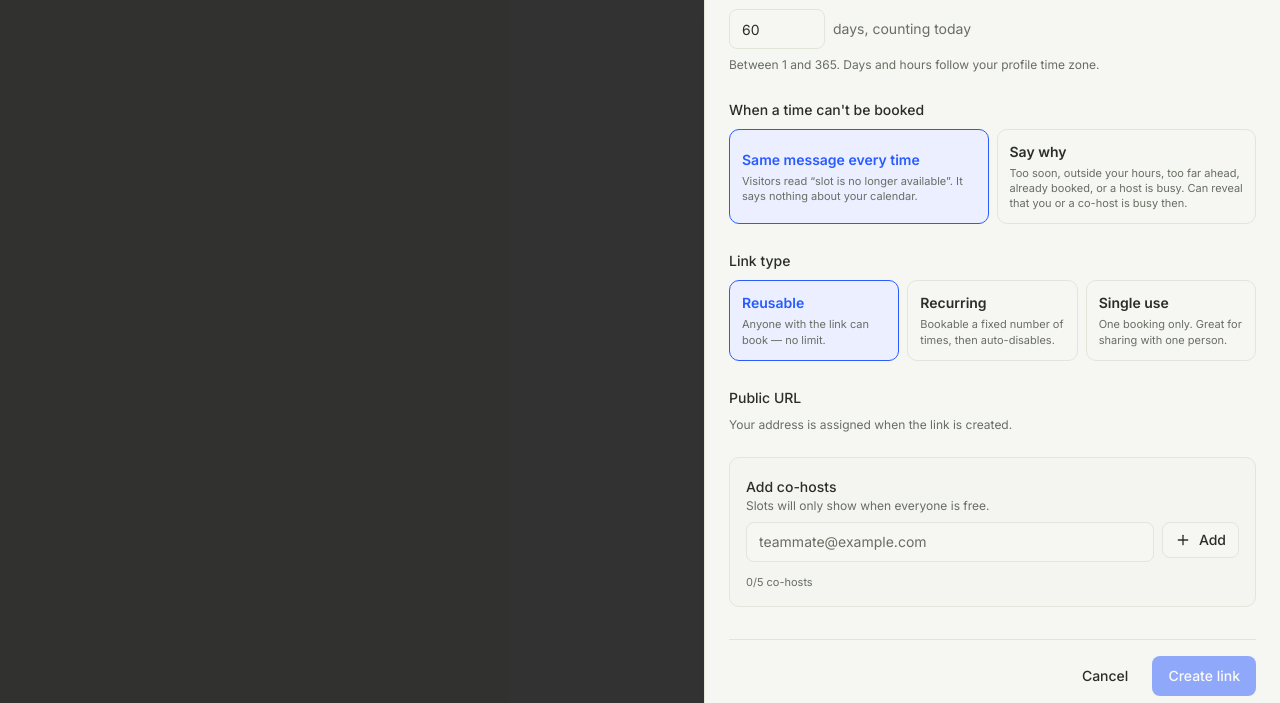
Scenario: PAC-122 SF-086: co-host availability chips on a failed free/busy read › a chip the answer does not mention is not left 'Checking…'
(page scrolled)
In the field named "Co-host email": (950, 542) [746,522,1154,562], type "mate@co.com"
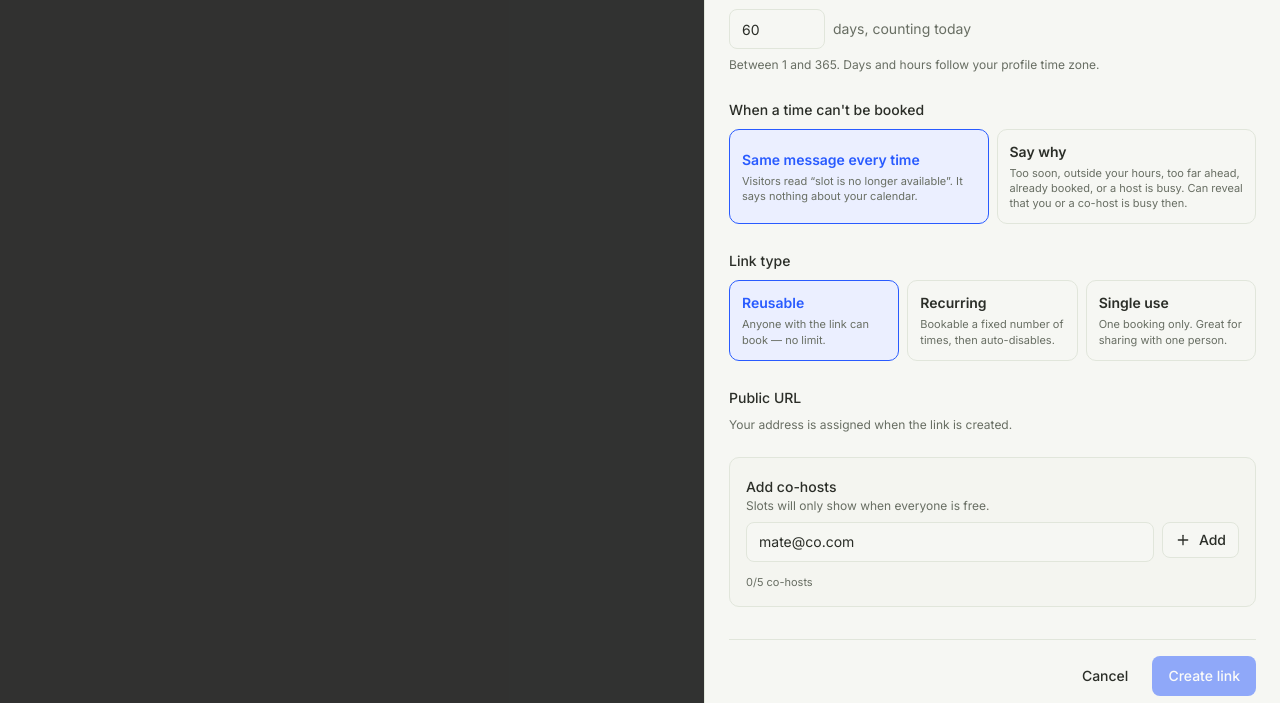
Click the button "Add": (1200, 540) [1162,522,1239,558]
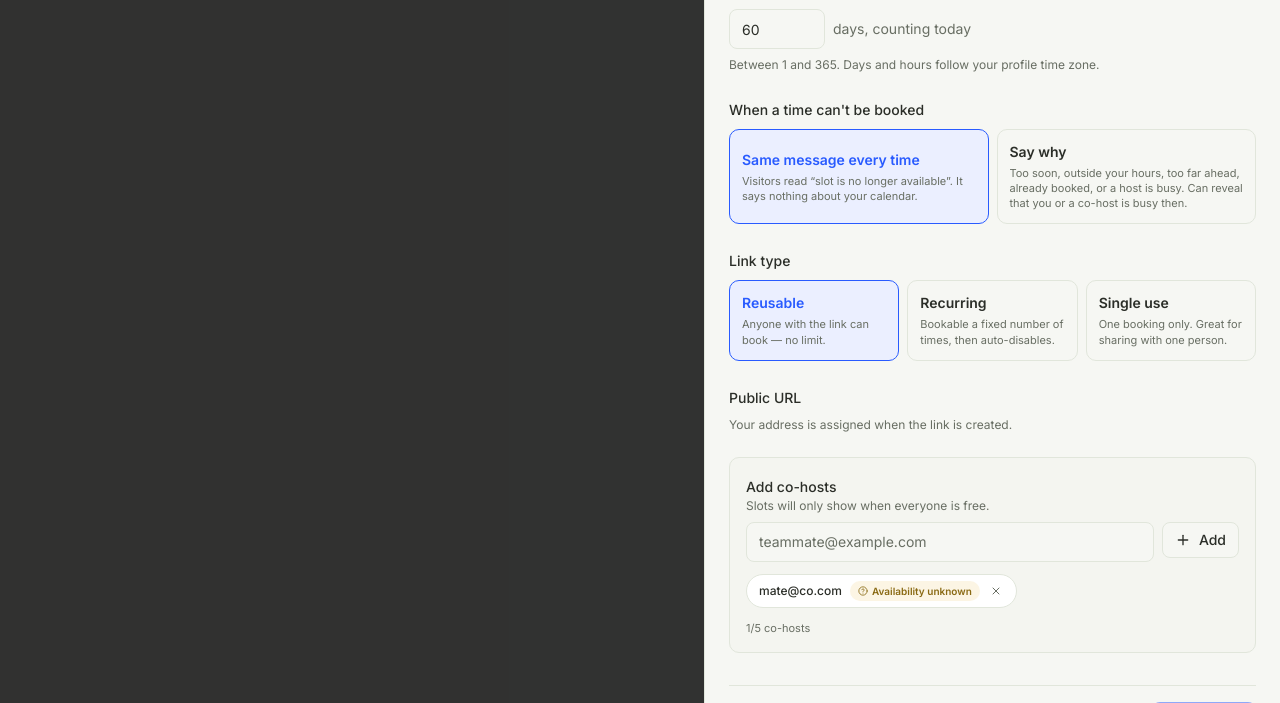
Expected: the text "Availability unknown" is shown, [850,581,980,601]
